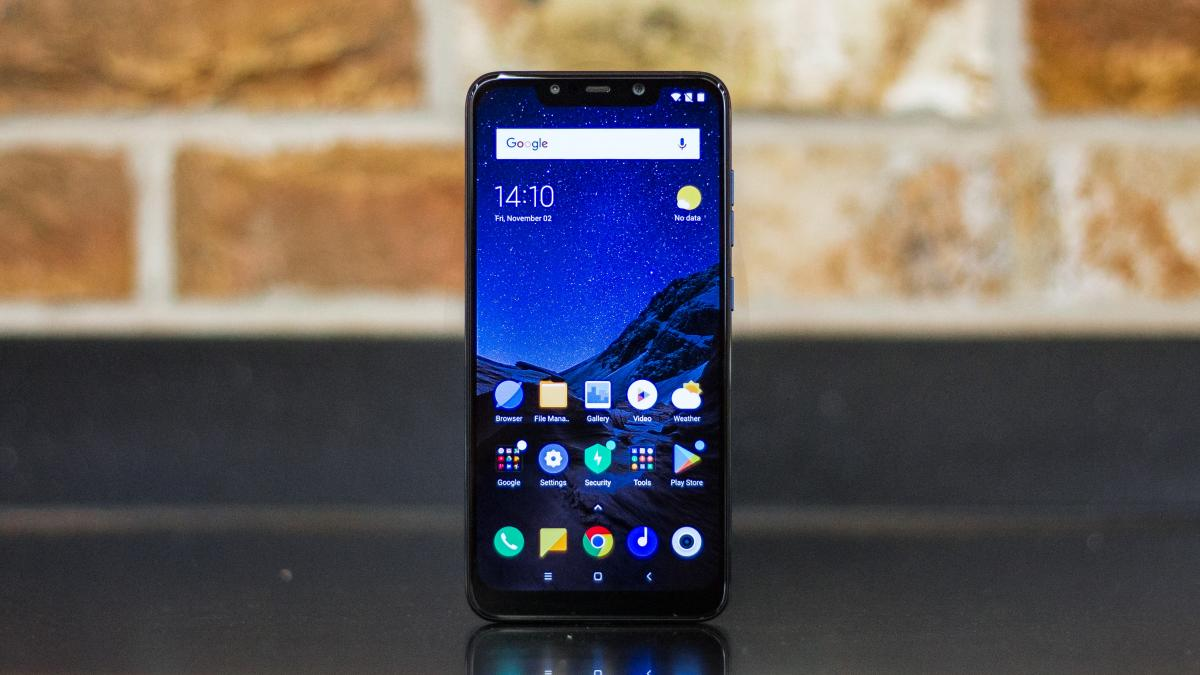phone: (455, 64, 746, 633)
